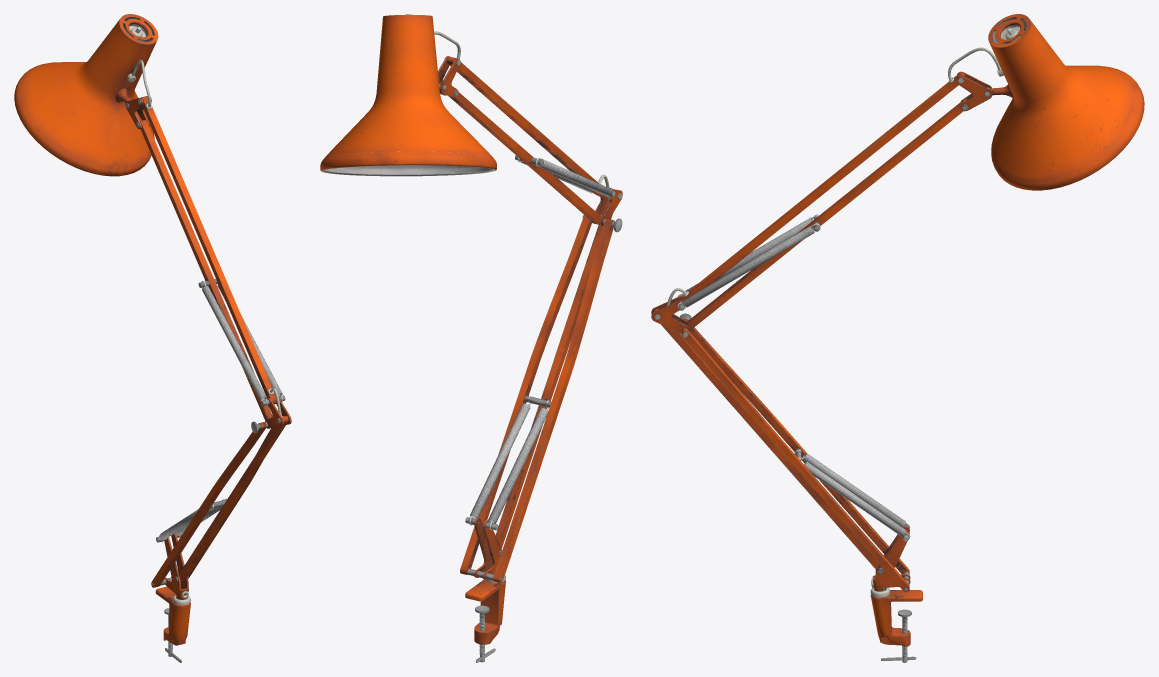
Rendered from desk_lamp_arm_01.glb.
The picture shows the model from 3 angles, left to right: view 1: azimuth 30°, elevation 25°; view 2: azimuth 150°, elevation 25°; view 3: azimuth 270°, elevation 25°; orthographic projection. The views are drawn at different scales.
Parts seen in each view (by area): view 1: desk_lamp_arm_01; view 2: desk_lamp_arm_01; view 3: desk_lamp_arm_01.
Boxes of the visible parts, x1,y1,x2,y2 form: desk_lamp_arm_01: (14, 14, 291, 662); desk_lamp_arm_01: (320, 14, 622, 662); desk_lamp_arm_01: (651, 14, 1144, 662).
Size of the model in its own units: 0.2017 by 0.8926 by 0.6139.
2 materials, 2 textured.
